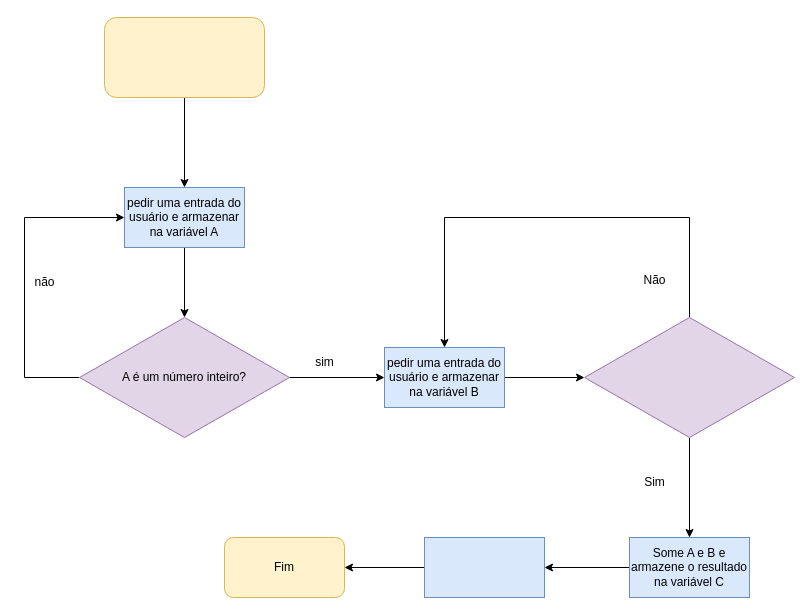
This 812x615 diagram has some shape labels left out. The shapes that lost their labels are listed below. From the top down, each one's box as (x1, y1, x2, y2) in pixels, then its label:
(104, 16, 264, 98): somar dois números
(584, 316, 794, 438): B é um número inteiro?
(424, 536, 544, 598): Exiba o valor da variável C para o usuário
